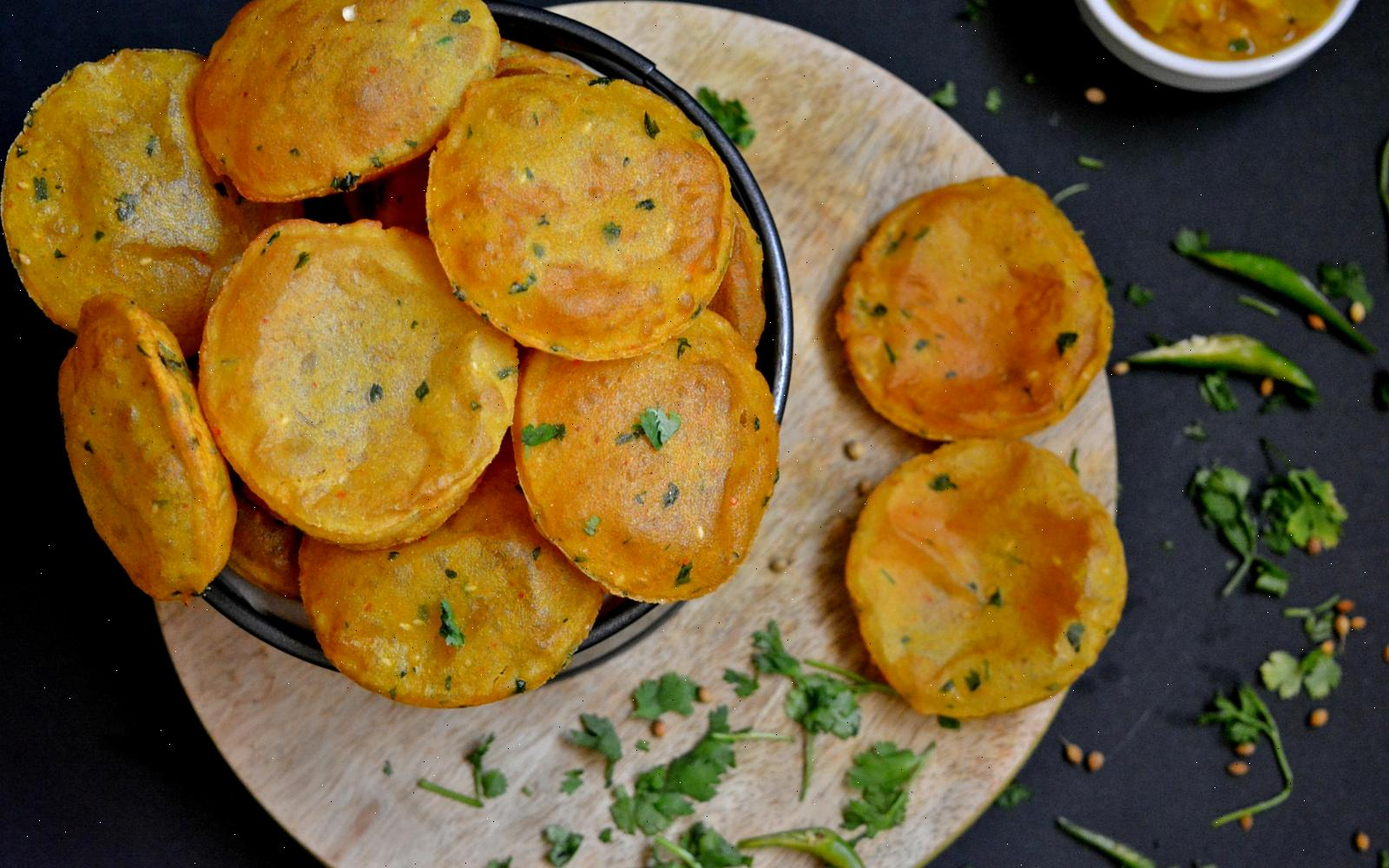puri: (0, 0, 1126, 827)
